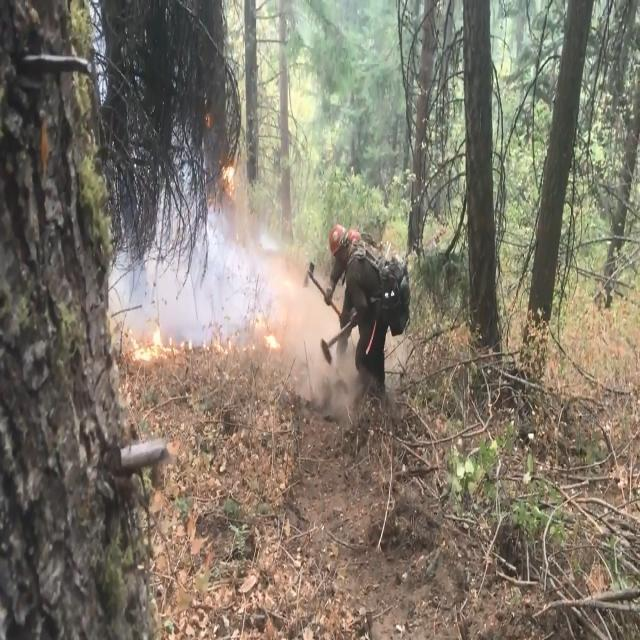Fire: (111, 156, 287, 360)
